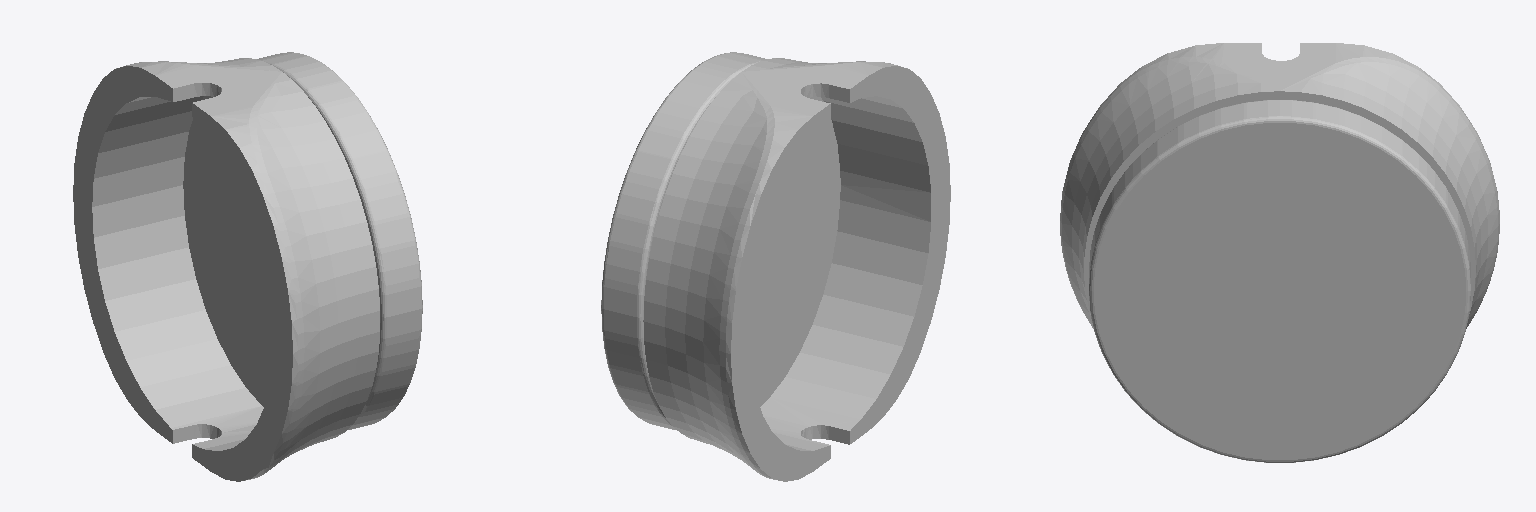
Rendered from flange.obj.
The picture shows the model from 3 angles: view 1: azimuth 30°, elevation 25°; view 2: azimuth 150°, elevation 25°; view 3: azimuth 270°, elevation 25°; orthographic projection.
Parts seen in each view (by area): view 1: right_base2_link; view 2: right_base2_link; view 3: right_base2_link.
Part boxes in pixels (x1,y1,x2,y2): right_base2_link: (73,52,422,481); right_base2_link: (601,52,950,481); right_base2_link: (1060,43,1499,462).
Size of the model in its own units: 0.0176 by 0.041 by 0.046.